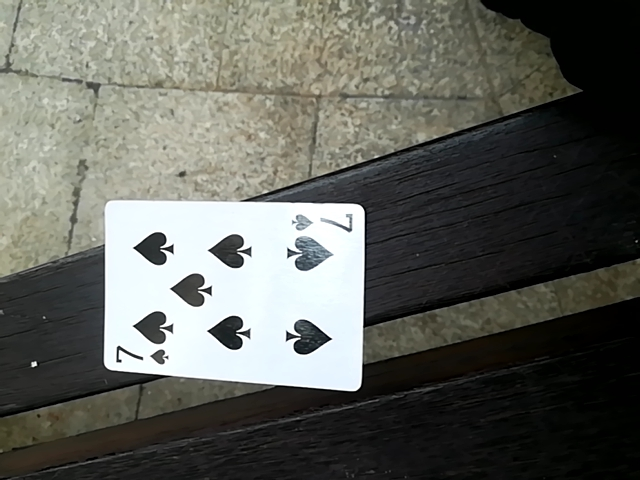ht 7: (91, 194, 367, 392)
